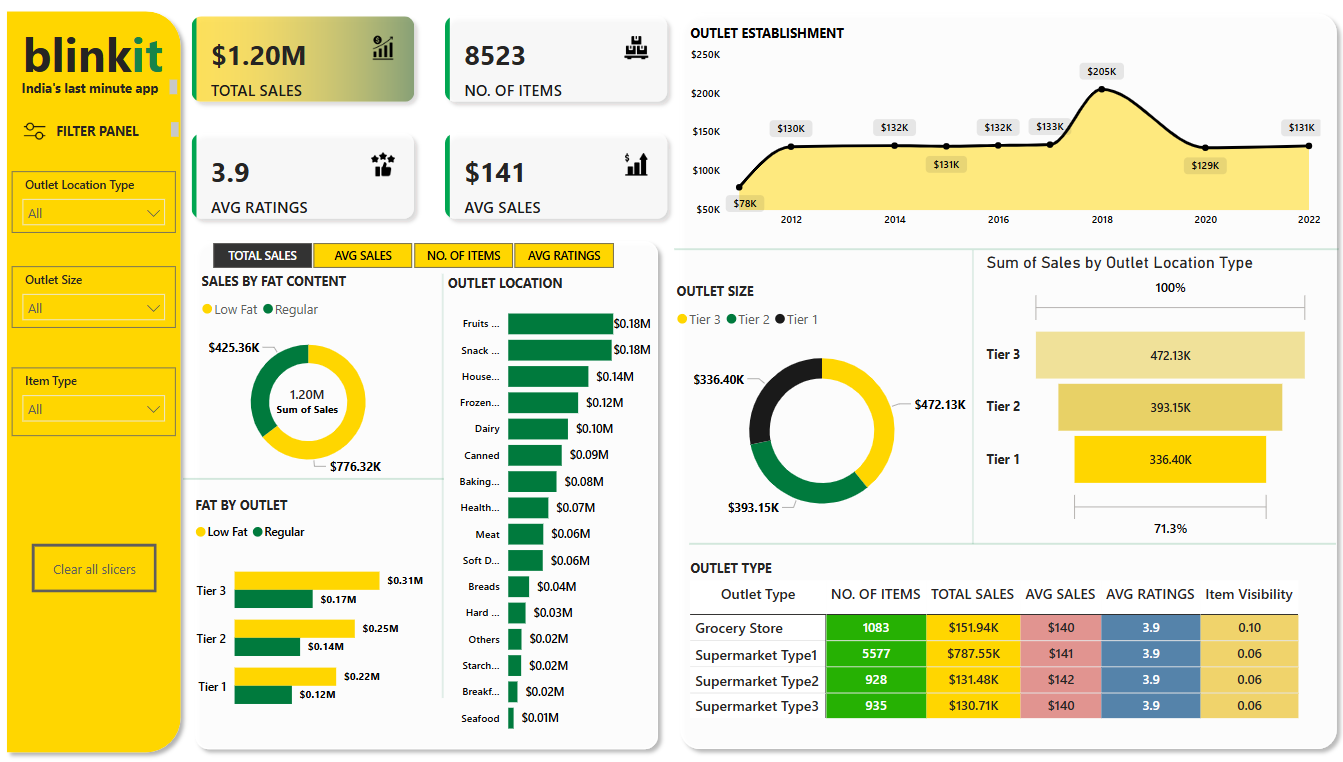

The dashboard page shown, as its layout file describes it:
{"tool":"powerbi","page":{"name":"Page 1","canvas":[1400,800],"ordinal":0},"visuals":[{"type":"shape","box":[0,2.4,198.8,788.1],"z":0},{"type":"textbox","box":[21,18,177,86],"z":1000},{"type":"textbox","box":[8.3,77.4,183.3,26.2],"z":2000},{"type":"cardVisual","fields":{"Data":["BlinkIT Grocery Data.Total Sales","BlinkIT Grocery Data.No. of Items","BlinkIT Grocery Data.Avg Rating","BlinkIT Grocery Data.Avg Sales"]},"box":[185,0,529,245],"z":3000},{"type":"shape","box":[195.8,241.7,498.6,545.8],"z":4000},{"type":"cardVisual","title":"Fat Content","fields":{"Data":["Sum(BlinkIT Grocery Data.Sales)"]},"box":[255.6,381.9,131.9,68.1],"z":5000},{"type":"slicer","fields":{"Values":["Parameter.Parameter"]},"box":[198,245,466,40],"z":6000},{"type":"donutChart","title":"SALES BY FAT CONTENT","fields":{"Y":["BlinkIT Grocery Data.TOTAL SALES"],"Category":["BlinkIT Grocery Data.Item Fat Content"]},"box":[206.9,283.3,231.9,222.2],"z":7000},{"type":"clusteredBarChart","title":"FAT BY OUTLET","fields":{"Y":["BlinkIT Grocery Data.TOTAL SALES"],"Category":["BlinkIT Grocery Data.Outlet Location Type"],"Series":["BlinkIT Grocery Data.Item Fat Content"]},"box":[200,515.3,247.2,243.1],"z":8000},{"type":"shape","box":[192,481,271,34],"z":9000},{"type":"shape","box":[455,285,15,441],"z":10000},{"type":"barChart","title":"OUTLET LOCATION","fields":{"Category":["BlinkIT Grocery Data.Item Type"],"Y":["BlinkIT Grocery Data.TOTAL SALES"]},"box":[462.5,284.7,220.8,488.9],"z":11000},{"type":"shape","box":[700,5.6,700,781.9],"z":12000},{"type":"lineChart","title":"OUTLET ESTABLISHMENT","fields":{"Category":["BlinkIT Grocery Data.Outlet Establishment Year"],"Y":["BlinkIT Grocery Data.TOTAL SALES"]},"box":[714.3,24.7,664.9,220.8],"z":13000},{"type":"shape","box":[702.8,241.7,690.3,34.7],"z":14000},{"type":"donutChart","title":"OUTLET SIZE","fields":{"Y":["BlinkIT Grocery Data.TOTAL SALES"],"Category":["BlinkIT Grocery Data.Outlet Location Type"]},"box":[700,293.1,312.5,261.1],"z":15000},{"type":"shape","box":[1004.2,259.7,18.1,305.6],"z":16000},{"type":"funnel","fields":{"Category":["BlinkIT Grocery Data.Outlet Location Type"],"Y":["Sum(BlinkIT Grocery Data.Sales)"]},"box":[1022.2,262.5,345.8,302.8],"z":17000},{"type":"shape","box":[718.1,554.2,672.2,20.8],"z":18000},{"type":"pivotTable","title":"OUTLET TYPE","fields":{"Rows":["BlinkIT Grocery Data.Outlet Type"],"Values":["BlinkIT Grocery Data.NO. OF ITEMS","BlinkIT Grocery Data.TOTAL SALES","BlinkIT Grocery Data.AVG SALES","BlinkIT Grocery Data.AVG RATINGS","Avg(BlinkIT Grocery Data.Item Visibility)"]},"box":[713.9,580.6,651.4,177.8],"z":19000},{"type":"slicer","fields":{"Values":["BlinkIT Grocery Data.Outlet Location Type"]},"box":[14.3,177.9,170.1,63.6],"z":20000},{"type":"slicer","fields":{"Values":["BlinkIT Grocery Data.Outlet Size"]},"box":[14.3,276.6,170.1,63.6],"z":21000},{"type":"slicer","fields":{"Values":["BlinkIT Grocery Data.Item Type"]},"box":[14.3,381.8,170.1,71.4],"z":22000},{"type":"textbox","box":[21.4,122.6,170.2,26.2],"z":23000},{"type":"image","box":[21.4,119,32.1,33.3],"z":24000},{"type":"actionButton","box":[35.1,564.9,129.9,50.6],"z":24002}]}

Visuals, with their boxes in screenshot pixels (x1, y1, x2, y2), scaled from the page's 1400x800 canvas onto the 1343x762 screenshot:
shape: x1=0, y1=2, x2=191, y2=753
textbox: x1=20, y1=17, x2=190, y2=99
textbox: x1=8, y1=74, x2=184, y2=99
cardVisual - BlinkIT Grocery Data.Total Sales x BlinkIT Grocery Data.No. of Items: x1=177, y1=0, x2=685, y2=233
shape: x1=188, y1=230, x2=666, y2=750
"Fat Content" cardVisual: x1=245, y1=364, x2=372, y2=429
slicer - Parameter.Parameter: x1=190, y1=233, x2=637, y2=271
"SALES BY FAT CONTENT" donutChart: x1=198, y1=270, x2=421, y2=481
"FAT BY OUTLET" clusteredBarChart: x1=192, y1=491, x2=429, y2=722
shape: x1=184, y1=458, x2=444, y2=491
shape: x1=436, y1=271, x2=451, y2=692
"OUTLET LOCATION" barChart: x1=444, y1=271, x2=655, y2=737
shape: x1=672, y1=5, x2=1342, y2=750
"OUTLET ESTABLISHMENT" lineChart: x1=685, y1=24, x2=1323, y2=234
shape: x1=674, y1=230, x2=1336, y2=263
"OUTLET SIZE" donutChart: x1=672, y1=279, x2=971, y2=528
shape: x1=963, y1=247, x2=981, y2=538
funnel - BlinkIT Grocery Data.Outlet Location Type x Sum(BlinkIT Grocery Data.Sales): x1=981, y1=250, x2=1312, y2=538
shape: x1=689, y1=528, x2=1334, y2=548
"OUTLET TYPE" pivotTable: x1=685, y1=553, x2=1310, y2=722
slicer - BlinkIT Grocery Data.Outlet Location Type: x1=14, y1=169, x2=177, y2=230
slicer - BlinkIT Grocery Data.Outlet Size: x1=14, y1=263, x2=177, y2=324
slicer - BlinkIT Grocery Data.Item Type: x1=14, y1=364, x2=177, y2=432
textbox: x1=21, y1=117, x2=184, y2=142
image: x1=21, y1=113, x2=51, y2=145
actionButton: x1=34, y1=538, x2=158, y2=586
